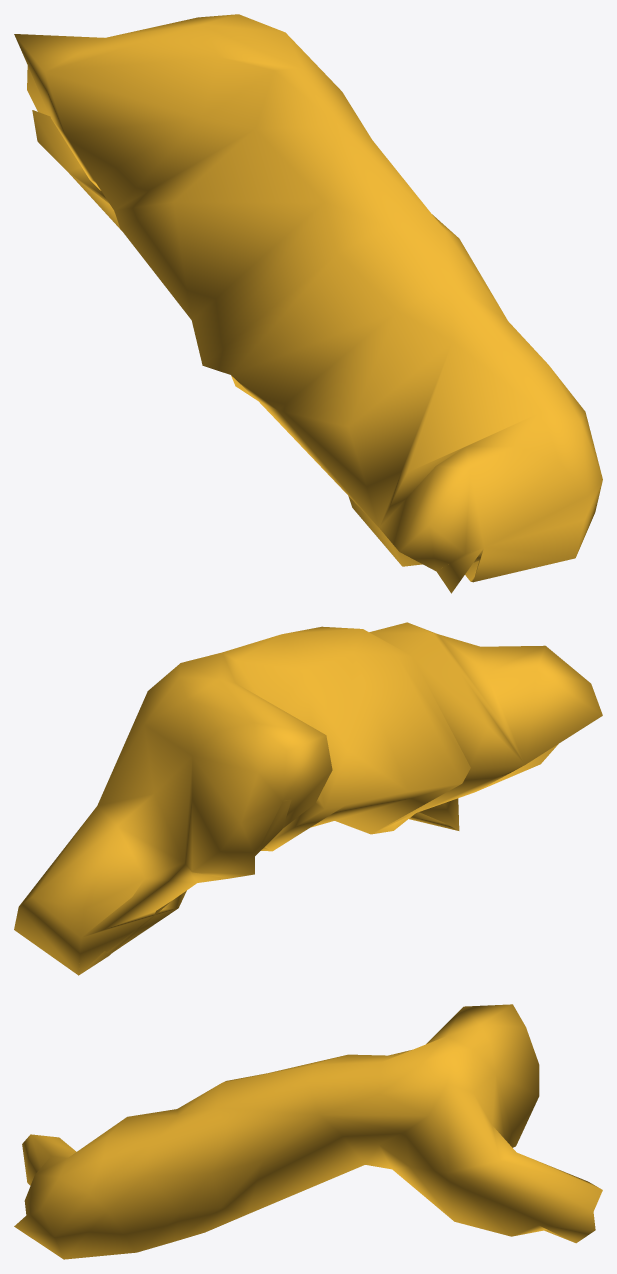
Rendered from nervoso-occipitotemporal-sulcus-lateral-part-r.glb.
3 renders of one model, top to bottom at view 1: azimuth 30°, elevation 25°; view 2: azimuth 150°, elevation 25°; view 3: azimuth 270°, elevation 25°, orthographic. The views are drawn at different scales.
Parts seen in each view (by area): view 1: Occipitotemporal sulcus (Lateral part*).r; view 2: Occipitotemporal sulcus (Lateral part*).r; view 3: Occipitotemporal sulcus (Lateral part*).r.
Part boxes in pixels (left/top/right/bottom): Occipitotemporal sulcus (Lateral part*).r: left=14, top=14, right=602, bottom=593; Occipitotemporal sulcus (Lateral part*).r: left=14, top=622, right=602, bottom=975; Occipitotemporal sulcus (Lateral part*).r: left=14, top=1004, right=602, bottom=1259.
Size of the model in its own units: 0.013 by 0.0159 by 0.0385.
